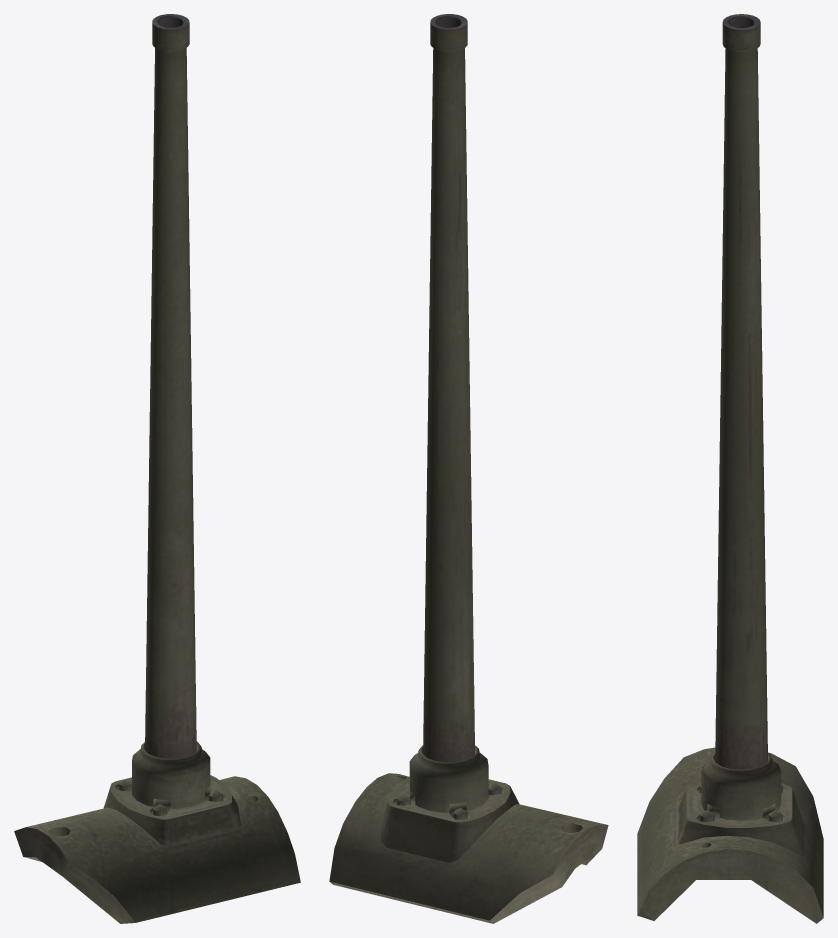
File: Gun_06.glb
The picture shows the model from 3 angles, left to right: view 1: azimuth 30°, elevation 25°; view 2: azimuth 150°, elevation 25°; view 3: azimuth 270°, elevation 25°; orthographic projection.
Parts seen in each view (by area): view 1: set_0_group_0; view 2: set_0_group_0; view 3: set_0_group_0.
Part boxes in pixels (x1=…): set_0_group_0: x1=14, y1=14, x2=300, y2=923; set_0_group_0: x1=329, y1=14, x2=608, y2=923; set_0_group_0: x1=637, y1=14, x2=823, y2=923.
Bounding box in the file's own units: 0.8031 × 3.13 × 0.6119.
1 material, 1 textured.
